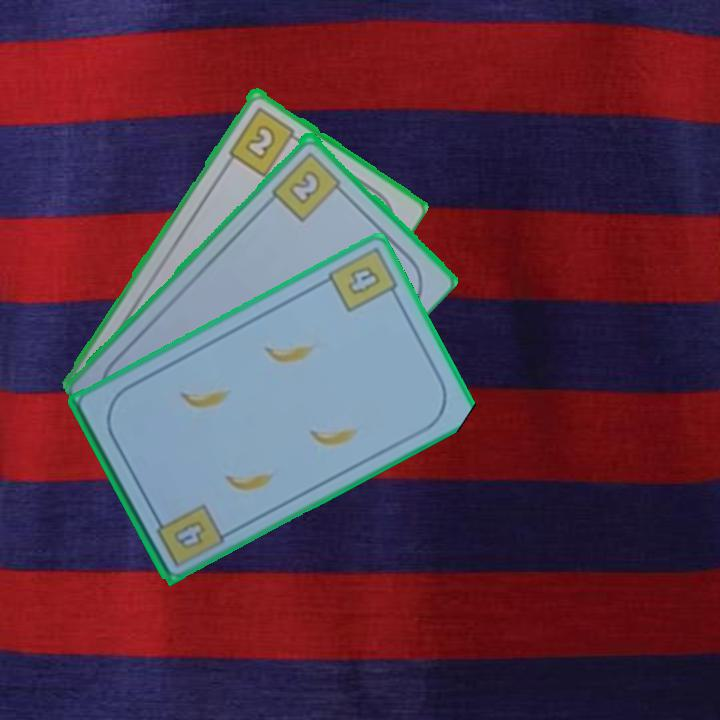2b: (268, 147, 348, 224), (225, 103, 304, 179)
4b: (324, 247, 403, 315), (169, 516, 210, 552)
